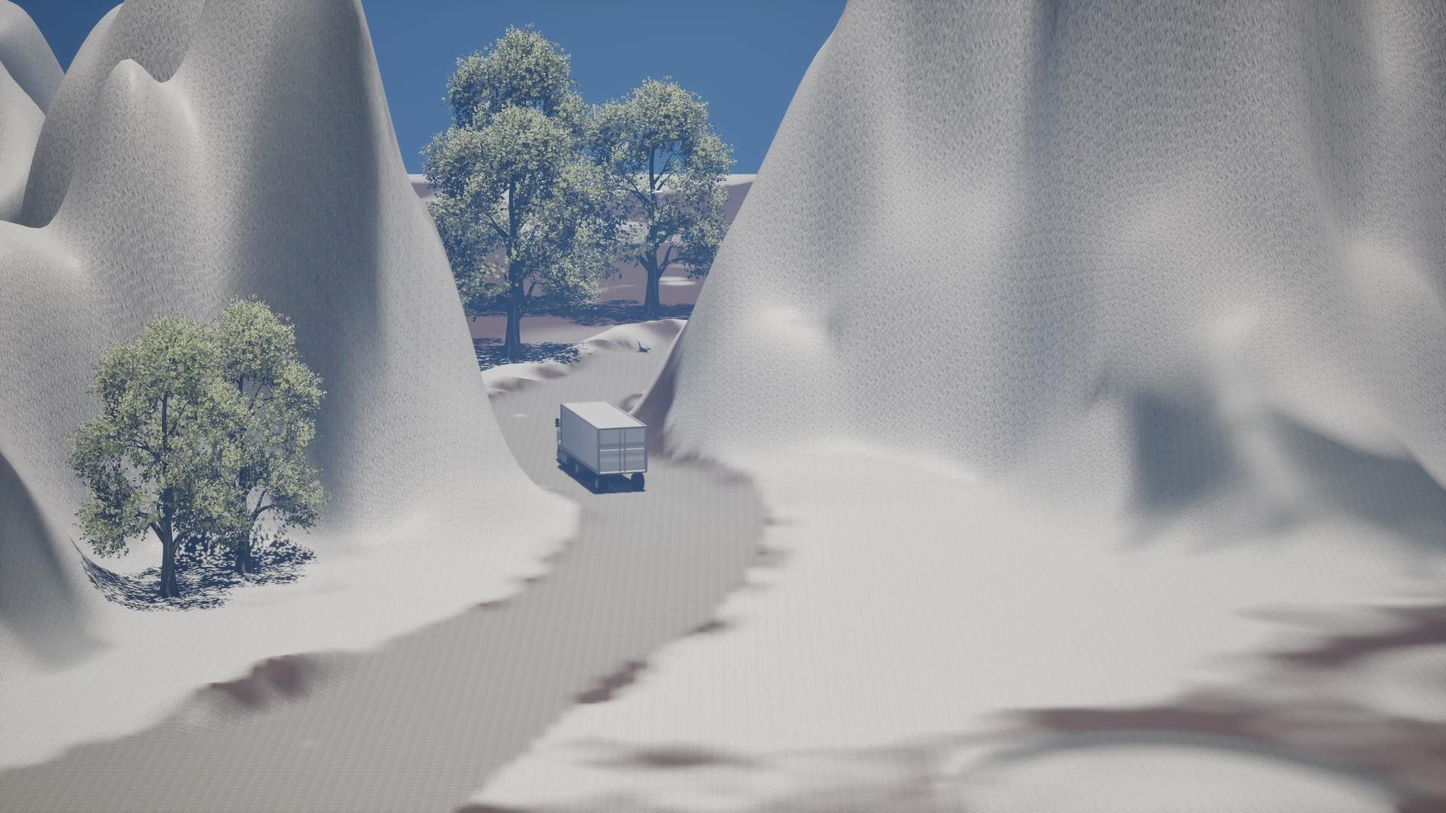truck: (557, 402, 647, 477)
